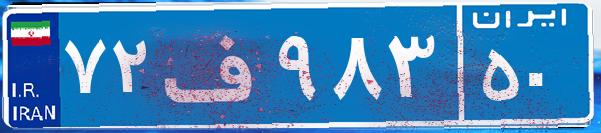0: (525, 38, 570, 115)
2: (110, 28, 158, 105)
3: (385, 28, 445, 110)
5: (475, 38, 525, 113)
7: (57, 26, 110, 107)
8: (330, 28, 385, 110)
9: (273, 28, 330, 110)
ف: (158, 15, 273, 115)
